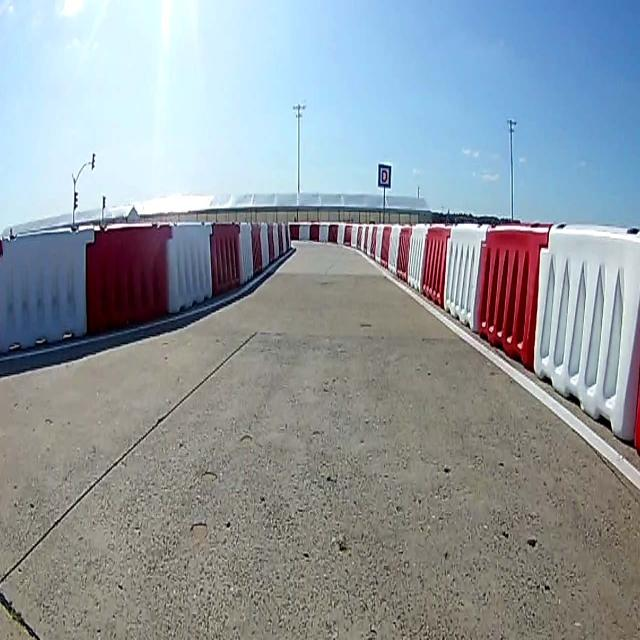durak: (377, 162, 393, 191)
